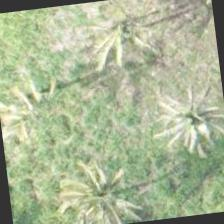Kelapa_Sawit: (0, 59, 88, 159), (143, 71, 223, 172), (76, 0, 176, 80), (49, 147, 149, 223)
